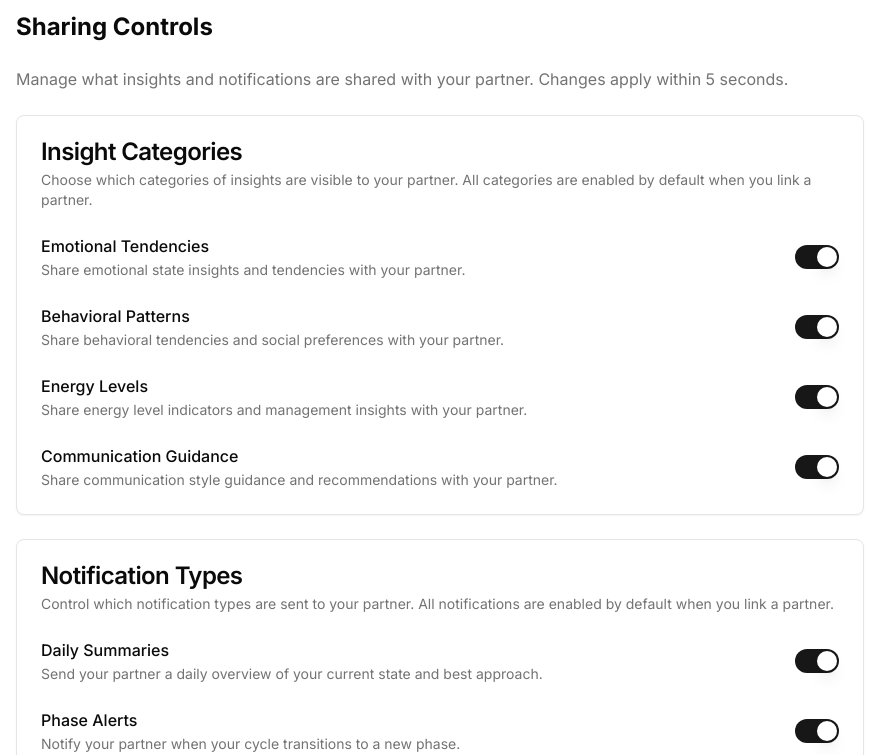
Test: SharingControlsPage › shows success status after toggling a category
Expected: the heading "Insight Categories" is shown, top-left (41, 137), bottom-right (242, 166)
Click the switch named "toggle energy levels" at (817,397), box top-left (795, 385), bottom-right (839, 409)
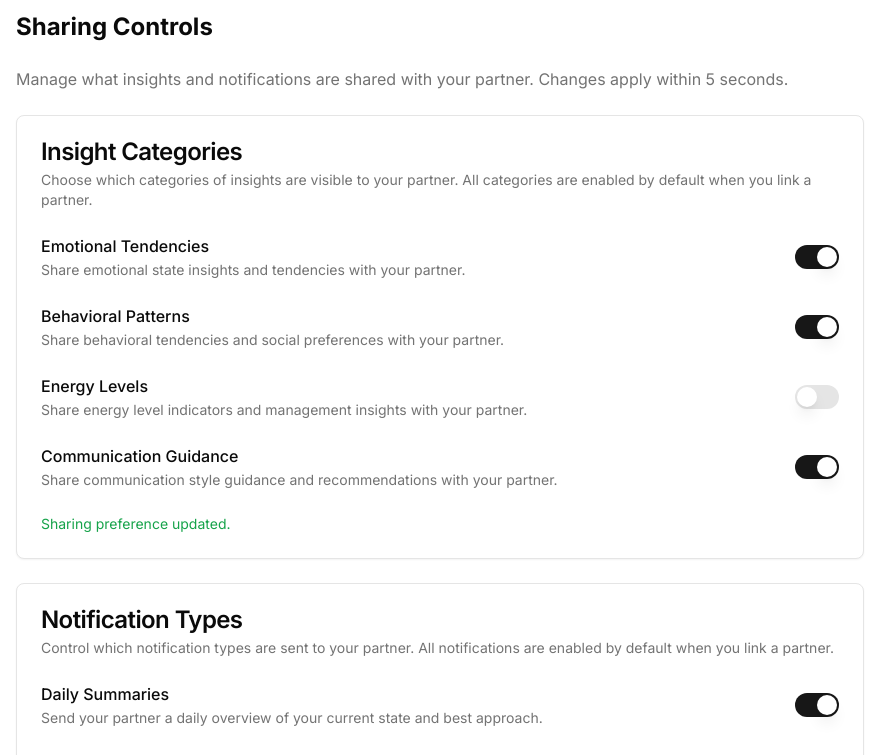
Result: the message with test id "category-status" reads "Sharing preference updated." at top-left (41, 515), bottom-right (230, 532)
